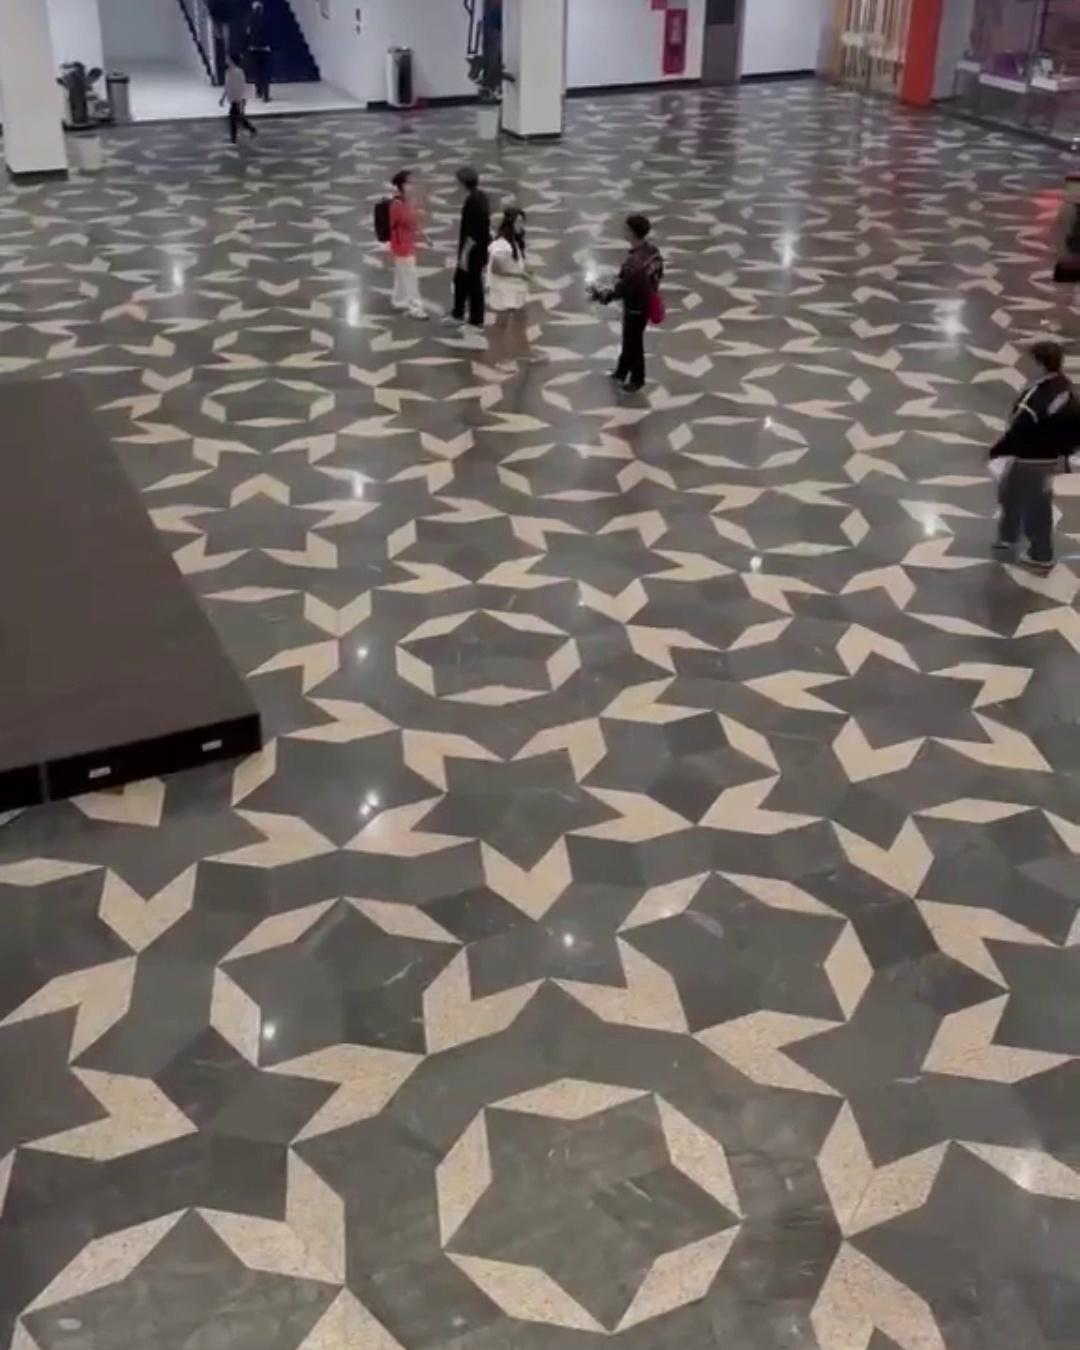your_class: (987, 343, 1080, 569), (602, 214, 665, 392), (372, 171, 433, 321), (441, 168, 492, 330), (488, 206, 533, 363), (1046, 173, 1080, 330), (218, 52, 258, 148), (244, 2, 276, 101)
